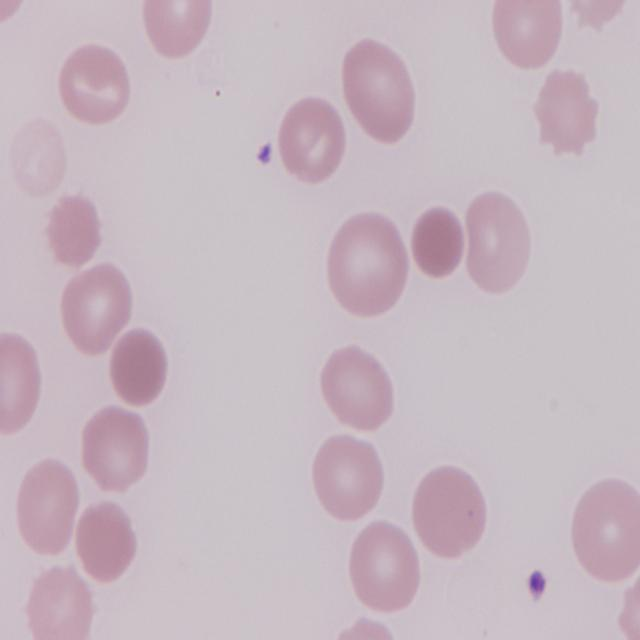RBC: (326, 211, 410, 319), (340, 35, 420, 143), (412, 456, 492, 560), (566, 472, 640, 584), (462, 190, 538, 298), (311, 432, 390, 529), (61, 256, 137, 356), (15, 452, 84, 558), (56, 39, 138, 128), (320, 343, 400, 434), (348, 519, 423, 616), (274, 92, 348, 187), (80, 404, 152, 497), (530, 63, 602, 156), (491, 0, 567, 73), (76, 498, 142, 582), (24, 562, 95, 640), (140, 0, 213, 63), (0, 332, 43, 436), (46, 192, 100, 268), (564, 0, 638, 31), (0, 0, 32, 26)
Spherocyte: (108, 326, 168, 409), (406, 204, 466, 282)
